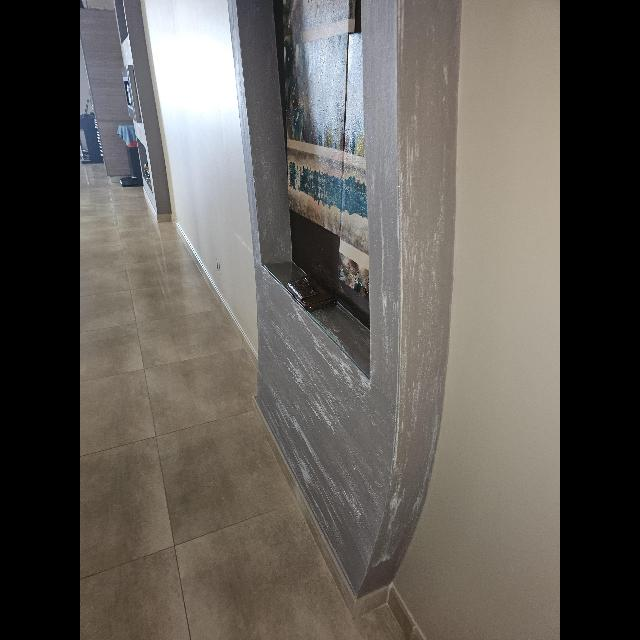Wallet: (286, 274, 338, 310)
